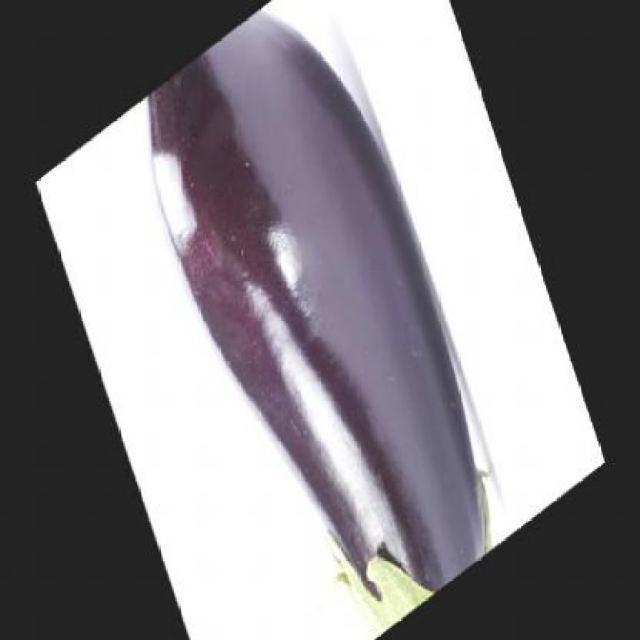eggplant: (118, 0, 513, 638)
